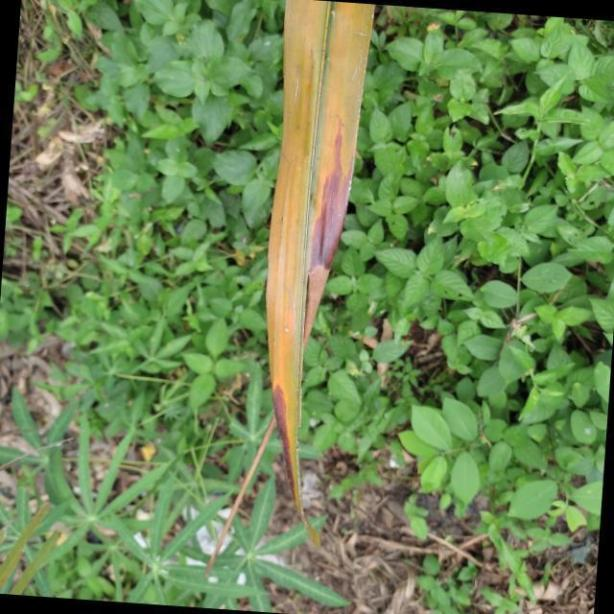Megnesium: (267, 2, 379, 524)
